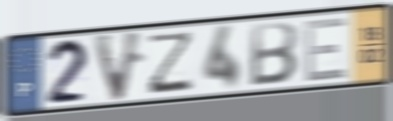2: (43, 36, 92, 109)
4: (200, 21, 244, 94)
B: (247, 20, 301, 88)
E: (302, 14, 349, 85)
V: (91, 28, 147, 105)
Z: (145, 29, 196, 97)
